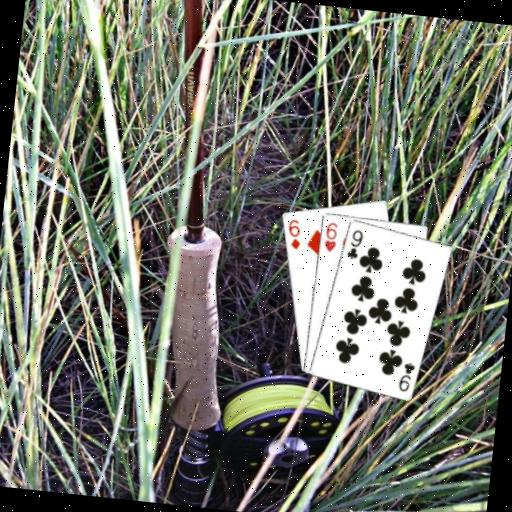6D: (283, 216, 305, 252)
6H: (320, 219, 339, 254)
9C: (343, 225, 365, 261), (395, 359, 417, 395)
